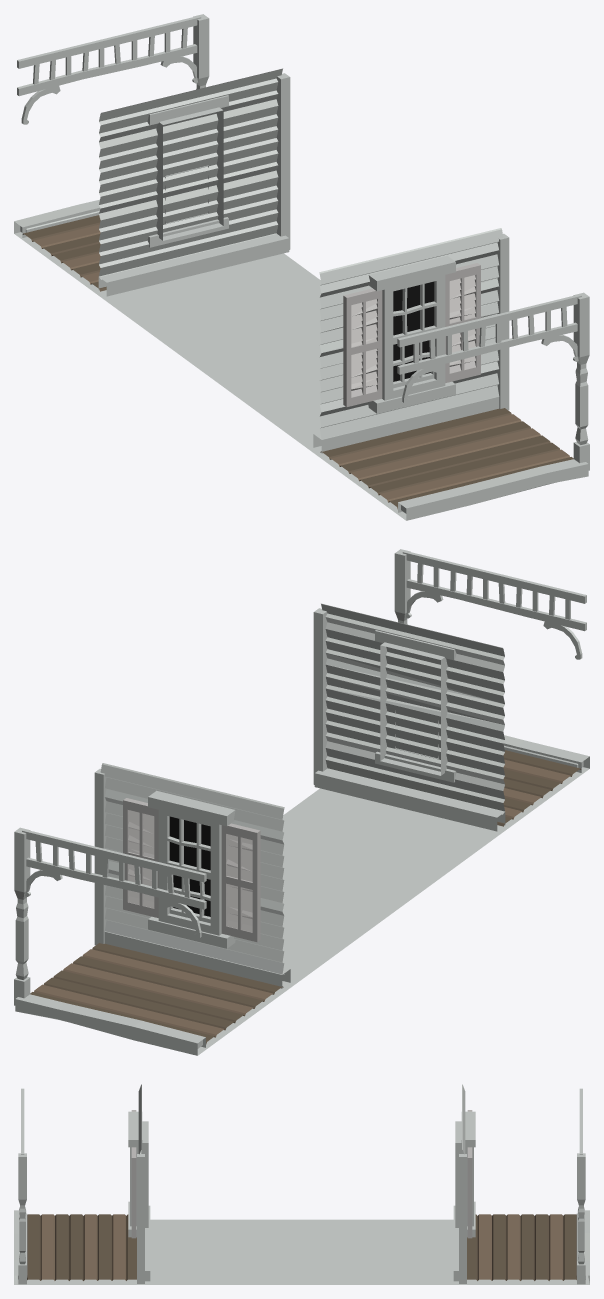
The model's file is SM_Bld_Mansion_Middle_01.glb.
The picture shows the model from 3 angles, top to bottom: view 1: azimuth 30°, elevation 25°; view 2: azimuth 150°, elevation 25°; view 3: azimuth 270°, elevation 25°; orthographic projection. The views are drawn at different scales.
Parts seen in each view (by area): view 1: SM_Bld_Mansion_Middle_01_part00; view 2: SM_Bld_Mansion_Middle_01_part00; view 3: SM_Bld_Mansion_Middle_01_part00.
Boxes of the visible parts, x1,y1,x2,y2 form: SM_Bld_Mansion_Middle_01_part00: (14, 14, 589, 520); SM_Bld_Mansion_Middle_01_part00: (14, 549, 589, 1055); SM_Bld_Mansion_Middle_01_part00: (14, 1084, 589, 1284).
Size of the model in its own units: 3.11 by 2.9 by 11.18.
Materials: 1 (1 with a texture image).
